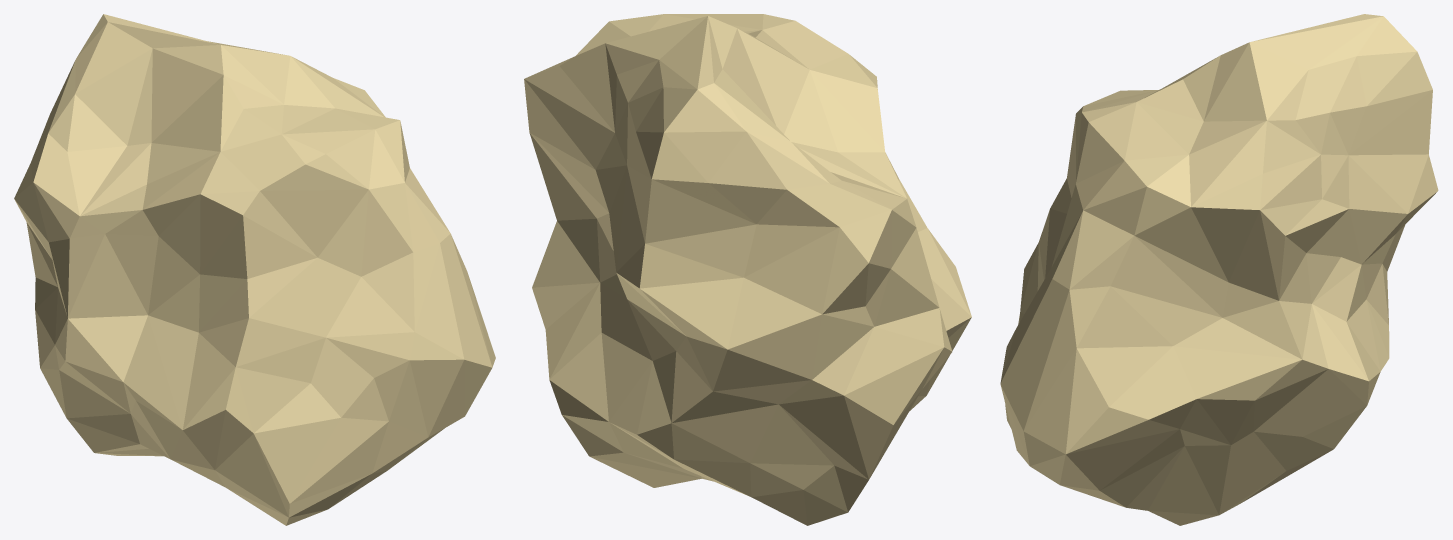
The model's file is Asteroid (101).fbx.
3 views of the same model, side by side, from view 1: azimuth 30°, elevation 25°; view 2: azimuth 150°, elevation 25°; view 3: azimuth 270°, elevation 25° (orthographic). The views are drawn at different scales.
Visible parts, largest first — view 1: Asteroid155; view 2: Asteroid155; view 3: Asteroid155.
Boxes of the visible parts, <box> form: Asteroid155: <box>14,14,495,525</box>; Asteroid155: <box>524,14,971,525</box>; Asteroid155: <box>1000,14,1438,525</box>.
Size of the model in its own units: 195 by 215 by 188.
